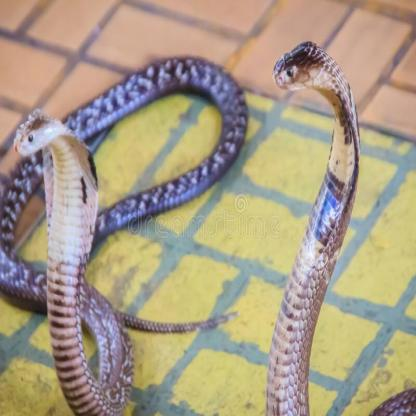Snake: (0, 50, 246, 416), (271, 37, 416, 415)
